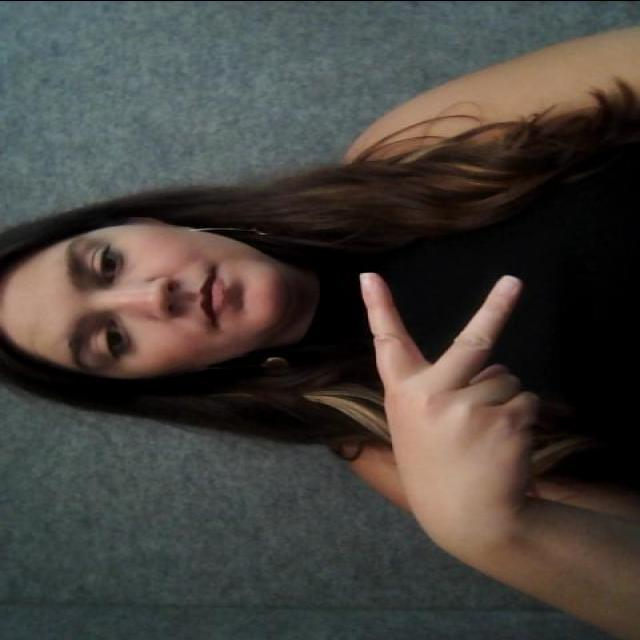Scissors: (332, 251, 598, 553)
